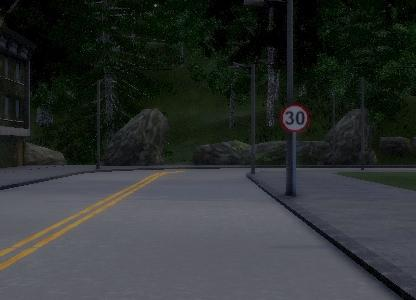Speed_30: (279, 103, 311, 132)
